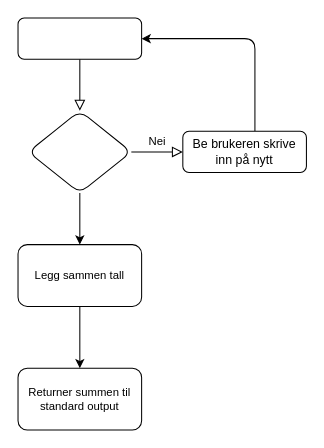
The diagram is 324 pixels wide and 448 high, and some of its shapes have lost their labels. The centre of each missing label's shape, as x and y in pixels:
"Er det tall?" belongs at (79,151).
"Ta inn to tall fra standard input" belongs at (79,38).
